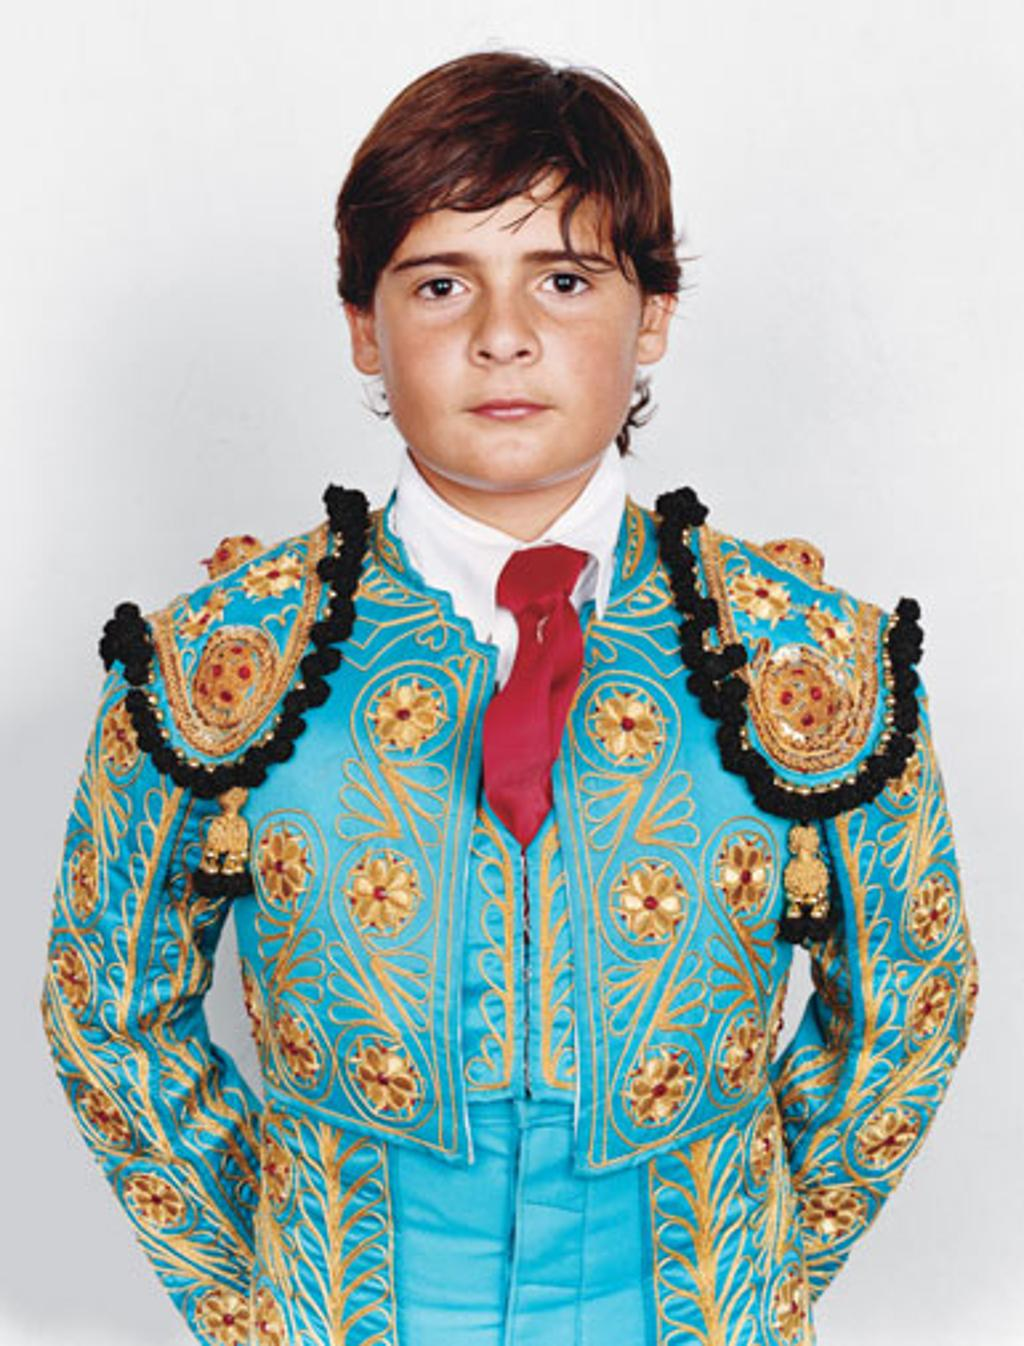face: (373, 194, 643, 483)
